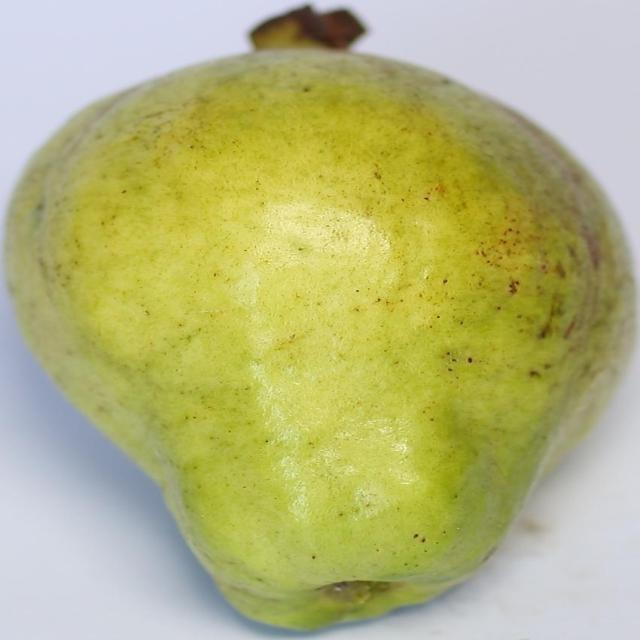Good_Guava: (0, 43, 638, 635)
